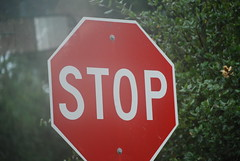StopSign: (46, 15, 178, 160)
